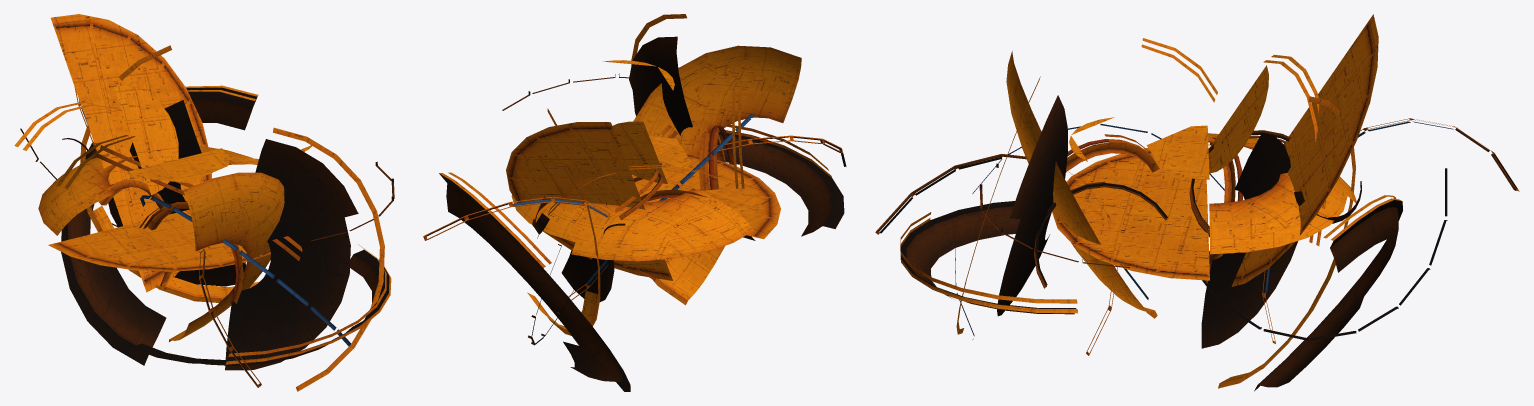
Rendered from MonsterB_Die14.obj.
3 views of the same model, side by side, from view 1: azimuth 30°, elevation 25°; view 2: azimuth 150°, elevation 25°; view 3: azimuth 270°, elevation 25° (orthographic). The views are drawn at different scales.
Visible parts, largest first — view 1: Sphere001; view 2: Sphere001; view 3: Sphere001.
Part boxes in pixels (x1,y1,x2,y2): Sphere001: (14,14,394,391); Sphere001: (423,14,846,391); Sphere001: (875,14,1519,391).
Size of the model in its own units: 238 by 242 by 397.
Materials: 1 (1 with a texture image).
